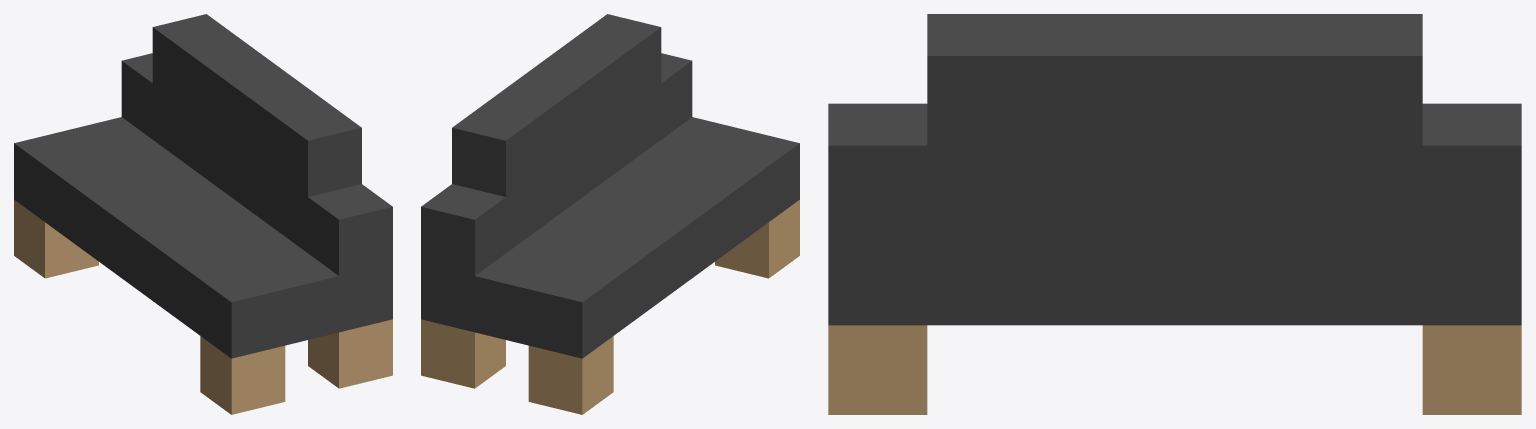
File: Corner Cafe-6.obj
3 views of the same model, side by side, from view 1: azimuth 30°, elevation 25°; view 2: azimuth 150°, elevation 25°; view 3: azimuth 270°, elevation 25° (orthographic). The views are drawn at different scales.
Size of the model in its own units: 0.3 by 0.4 by 0.7.
1 material, 1 textured.
